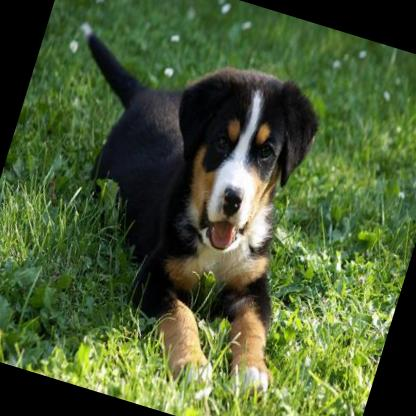Appenzeller: (0, 17, 357, 414)
